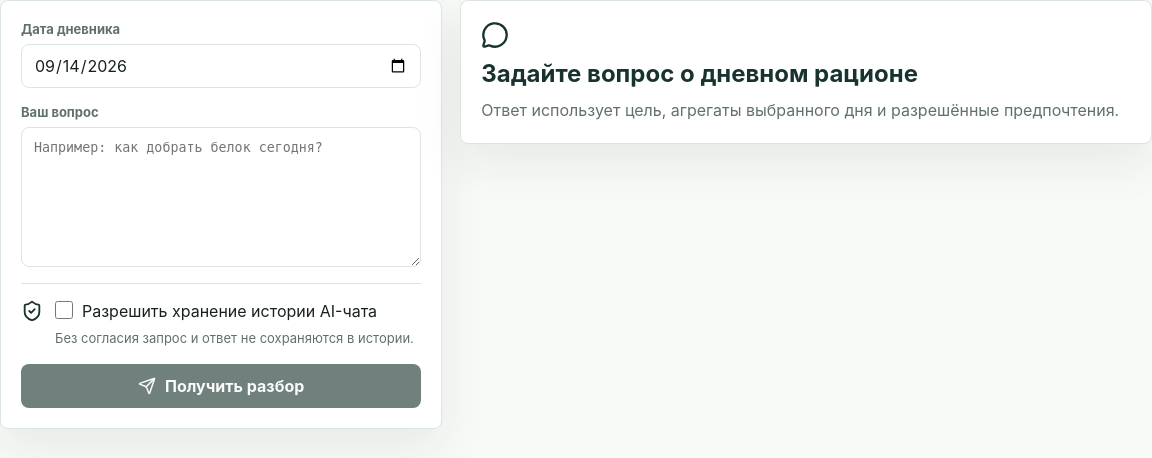
it: NutritionCoachPanel › shows a safety response as a blocked result
Step 1. Type "Опасный запрос" into the text box labelled "Ваш вопрос" → (221, 197), box [21, 127, 421, 267]
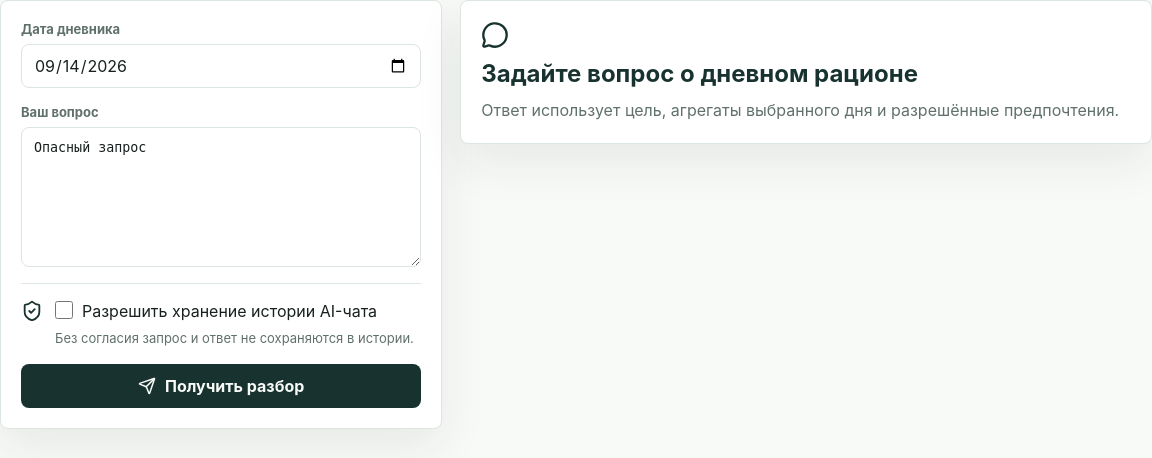
Step 2. Submit the form named "Получить разбор", box [0, 0, 442, 429]
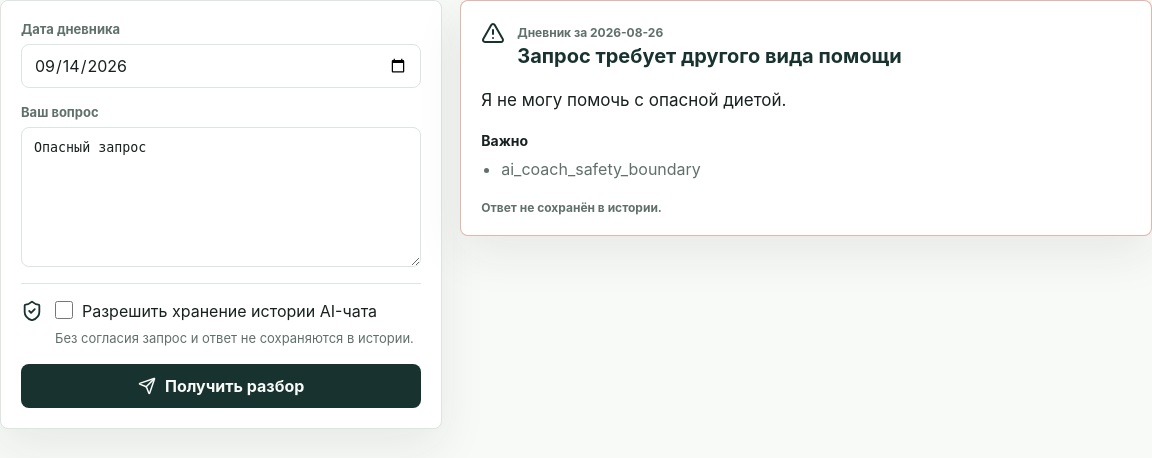
Result: the heading "Запрос требует другого вида помощи" is shown at [517, 44, 902, 68]
Result: the text "Я не могу помочь с опасной диетой." is shown at [481, 90, 787, 110]
